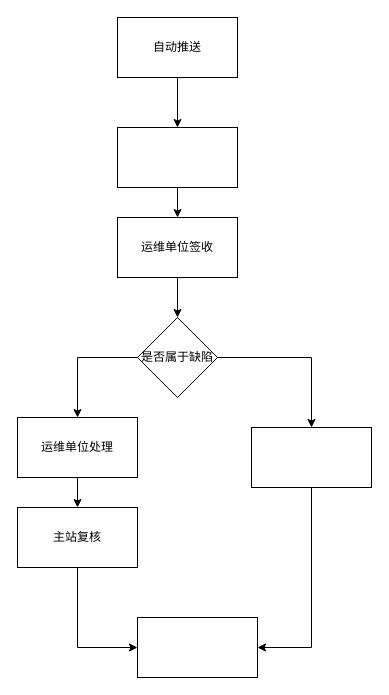
The diagram is 389 pixels wide and 695 high, and some of its shapes have lost their labels. Here are the shapes that lost their labels. From the top down, the box of each, then its label:
(116, 126, 238, 188): OMS终端缺陷管理模块
(250, 426, 372, 488): 推送电网管理平台缺陷管理模块消缺
(136, 616, 258, 678): 归档
